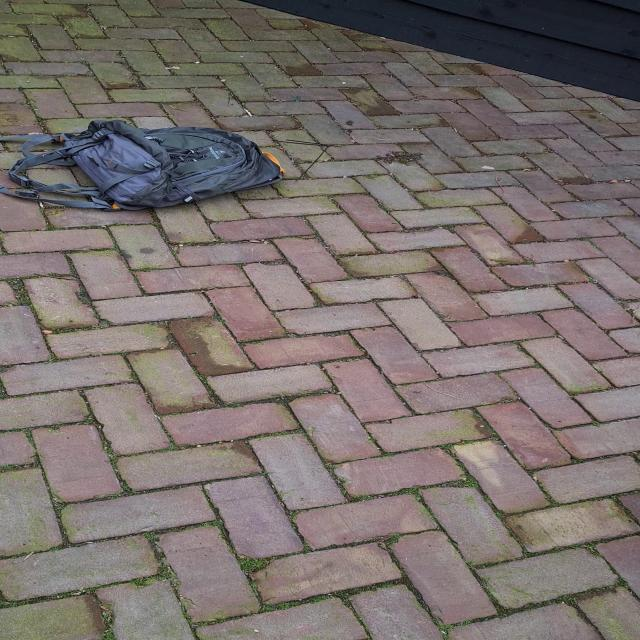backpack: (0, 119, 285, 216)
